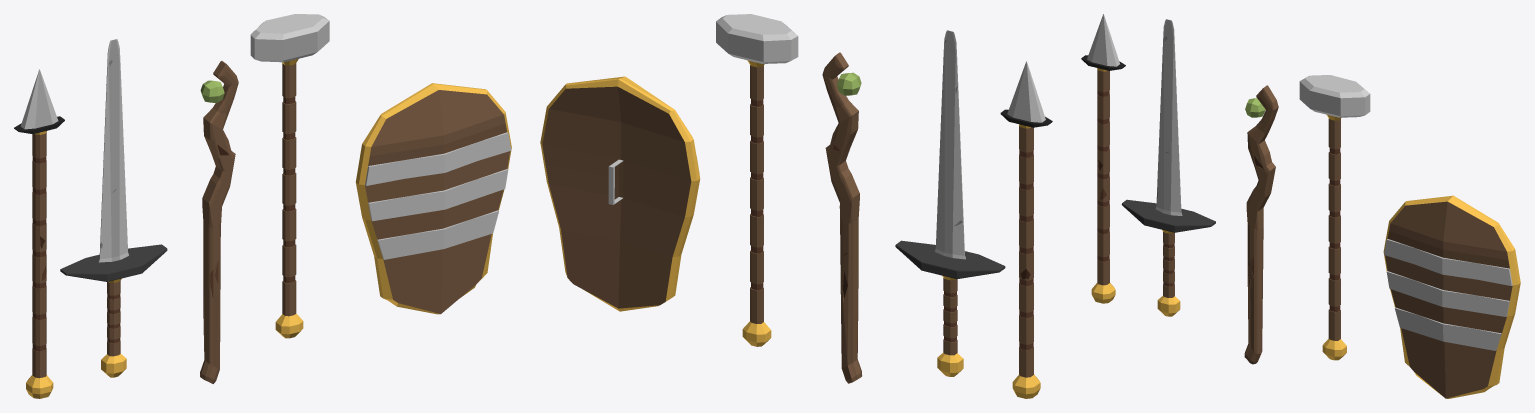
File: Armas.fbx
3 renders of one model, left to right at view 1: azimuth 30°, elevation 25°; view 2: azimuth 150°, elevation 25°; view 3: azimuth 330°, elevation 25°, orthographic. The views are drawn at different scales.
Parts seen in each view (by area): view 1: Escudo, Espada, Martelo, Cajado, Lança; view 2: Escudo, Espada, Martelo, Cajado, Lança; view 3: Escudo, Espada, Martelo, Cajado, Lança.
Boxes of the visible parts, x1,y1,x2,y2 form: Escudo: (355, 83, 511, 314); Espada: (60, 39, 167, 377); Martelo: (250, 14, 329, 338); Cajado: (200, 61, 238, 383); Lança: (14, 69, 64, 398); Escudo: (540, 76, 700, 311); Espada: (895, 30, 1005, 376); Martelo: (716, 14, 798, 346); Cajado: (822, 52, 862, 383); Lança: (1000, 61, 1052, 398); Escudo: (1383, 195, 1520, 398); Espada: (1121, 19, 1215, 316); Martelo: (1299, 75, 1370, 360); Cajado: (1244, 85, 1278, 364); Lança: (1081, 14, 1125, 303).
Bounding box in the file's own units: 442 × 314 × 44.12.
